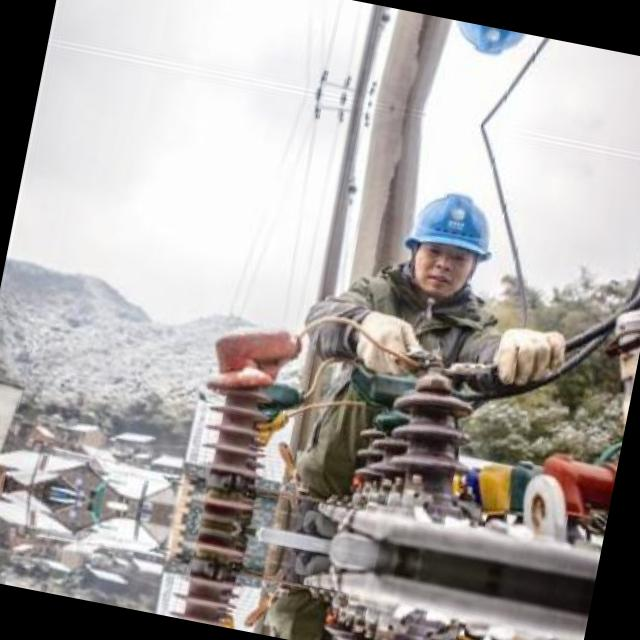helmet: (389, 175, 506, 312), (436, 19, 538, 74)
